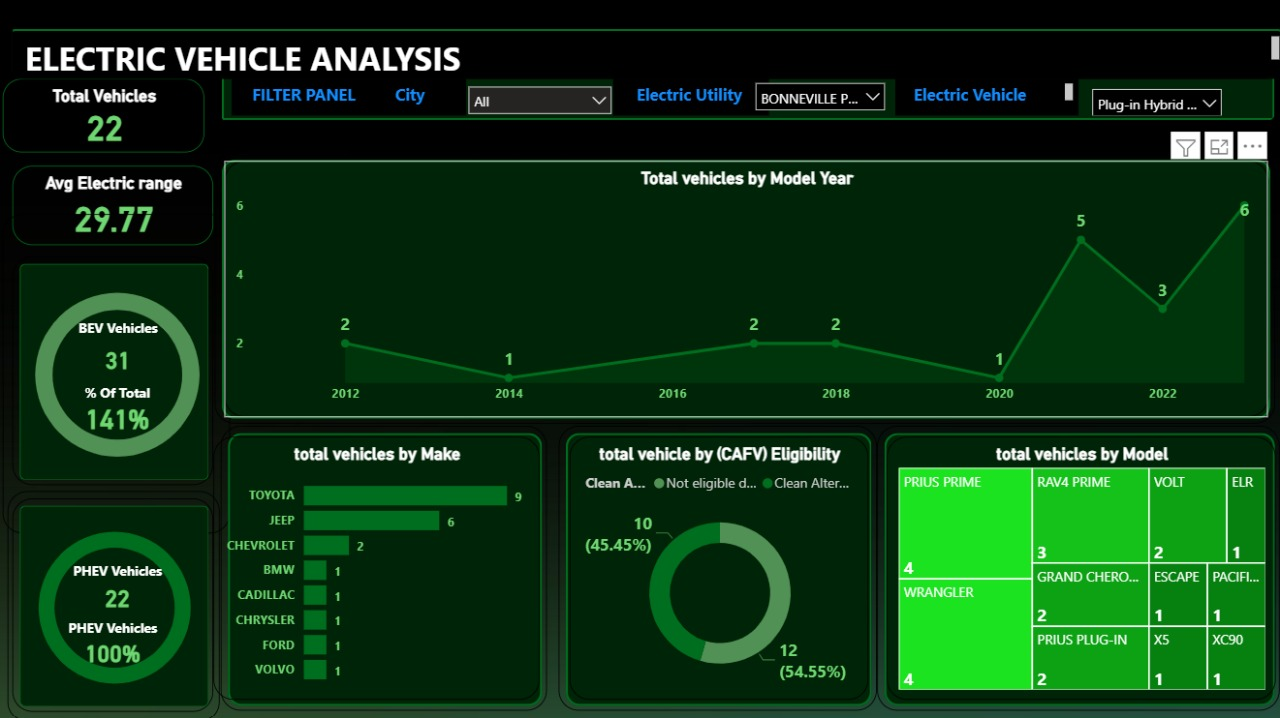

The page's visual inventory and layout, read from the dashboard file:
{"tool":"powerbi","page":{"name":"Page 1","canvas":[1280,720],"ordinal":0},"visuals":[{"type":"shape","box":[214.7,68,1060.1,57.1],"z":0},{"type":"shape","box":[13.7,255.2,200.3,227.8],"z":2},{"type":"card","title":"Total Vehicles","fields":{"Values":["Electric_Vehicle_Population_Data.total vehicles"]},"box":[4.1,78.8,201.1,73.4],"z":3},{"type":"card","title":"Avg Electric range","fields":{"Values":["Avg(Electric_Vehicle_Population_Data.Electric Range)"]},"box":[13.7,164.7,200.3,79.6],"z":4},{"type":"donutChart","fields":{"Category":["Electric_Vehicle_Population_Data.Electric Vehicle Type"],"Y":["Electric_Vehicle_Population_Data.total vehicles"]},"box":[4.1,214.1,226.4,318.4],"z":7},{"type":"shape","box":[13.7,496.7,200.3,212.7],"z":8},{"type":"card","title":"BEV Vehicles","fields":{"Values":["Electric_Vehicle_Population_Data.BEV Vehicles"]},"box":[65.9,317,104.3,65.9],"z":9},{"type":"card","title":"% Of Total","fields":{"Values":["Electric_Vehicle_Population_Data.% BEV"]},"box":[50.8,382.8,134.5,52.1],"z":10},{"type":"donutChart","fields":{"Category":["Electric_Vehicle_Population_Data.Electric Vehicle Type"],"Y":["Electric_Vehicle_Population_Data.total vehicles"]},"box":[8.2,489.9,211.3,230.5],"z":11},{"type":"card","title":"PHEV Vehicles","fields":{"Values":["Electric_Vehicle_Population_Data.PHEV Vehicles"]},"box":[30.2,559.9,175.6,56.3],"z":12},{"type":"card","title":"PHEV Vehicles","fields":{"Values":["Electric_Vehicle_Population_Data.% PHEV"]},"box":[30.2,616.1,166,52.1],"z":13},{"type":"shape","box":[5.4,21.7,1274.8,57.1],"z":14},{"type":"shape","box":[214.7,152.2,1056,270.5],"z":15},{"type":"areaChart","title":"Total vehicles by Model Year","fields":{"Category":["Electric_Vehicle_Population_Data.Model Year"],"Y":["Electric_Vehicle_Population_Data.total vehicles"]},"box":[224.3,160.4,1039.7,255.5],"z":16},{"type":"shape","box":[220.2,424,324.8,284.1],"z":17},{"type":"barChart","fields":{"Category":["Electric_Vehicle_Population_Data.Make"],"Y":["Electric_Vehicle_Population_Data.total vehicles"]},"box":[213.4,434.9,324.8,262.3],"z":18},{"type":"shape","box":[557.2,424,316.7,284.1],"z":19},{"type":"donutChart","title":"total vehicle by (CAFV) Eligibility","fields":{"Category":["Electric_Vehicle_Population_Data.Clean Alternative Fuel Vehicle (CAFV) Eligibility"],"Y":["Electric_Vehicle_Population_Data.total vehicles"]},"box":[568.1,434.9,297.6,262.3],"z":20},{"type":"shape","box":[873.9,424,400.9,284.1],"z":22},{"type":"treemap","fields":{"Group":["Electric_Vehicle_Population_Data.Model"],"Values":["Electric_Vehicle_Population_Data.total vehicles"]},"box":[883.4,434.9,387.3,262.3],"z":23},{"type":"textbox","box":[231,78.8,233.8,36.7],"z":24},{"type":"textbox","box":[13.6,31.3,1266.7,47.6],"z":25},{"type":"slicer","fields":{"Values":["Electric_Vehicle_Population_Data.City"]},"box":[456.7,76.1,163.1,63.9],"z":26},{"type":"textbox","box":[611.6,78.8,154.9,36.7],"z":27},{"type":"slicer","fields":{"Values":["Electric_Vehicle_Population_Data.Electric Utility"]},"box":[743.4,72,149.5,43.5],"z":28},{"type":"textbox","box":[892.9,78.8,182.1,36.7],"z":29},{"type":"slicer","fields":{"Values":["Electric_Vehicle_Population_Data.Electric Vehicle Type"]},"box":[1077.8,78.8,149.5,36.7],"z":30}]}

Visuals, with their boxes in screenshot pixels (x1, y1, x2, y2), scaled from the page's 1280x720 canvas onto the 1280x718 screenshot:
shape: l=215, t=68, r=1275, b=125
shape: l=14, t=254, r=214, b=482
"Total Vehicles" card: l=4, t=79, r=205, b=152
"Avg Electric range" card: l=14, t=164, r=214, b=244
donutChart - Electric_Vehicle_Population_Data.Electric Vehicle Type x Electric_Vehicle_Population_Data.total vehicles: l=4, t=214, r=230, b=531
shape: l=14, t=495, r=214, b=707
"BEV Vehicles" card: l=66, t=316, r=170, b=382
"% Of Total" card: l=51, t=382, r=185, b=434
donutChart - Electric_Vehicle_Population_Data.Electric Vehicle Type x Electric_Vehicle_Population_Data.total vehicles: l=8, t=489, r=220, b=717
"PHEV Vehicles" card: l=30, t=558, r=206, b=614
"PHEV Vehicles" card: l=30, t=614, r=196, b=666
shape: l=5, t=22, r=1279, b=79
shape: l=215, t=152, r=1271, b=422
"Total vehicles by Model Year" areaChart: l=224, t=160, r=1264, b=415
shape: l=220, t=423, r=545, b=706
barChart - Electric_Vehicle_Population_Data.Make x Electric_Vehicle_Population_Data.total vehicles: l=213, t=434, r=538, b=695
shape: l=557, t=423, r=874, b=706
"total vehicle by (CAFV) Eligibility" donutChart: l=568, t=434, r=866, b=695
shape: l=874, t=423, r=1275, b=706
treemap - Electric_Vehicle_Population_Data.Model x Electric_Vehicle_Population_Data.total vehicles: l=883, t=434, r=1271, b=695
textbox: l=231, t=79, r=465, b=115
textbox: l=14, t=31, r=1279, b=79
slicer - Electric_Vehicle_Population_Data.City: l=457, t=76, r=620, b=140
textbox: l=612, t=79, r=766, b=115
slicer - Electric_Vehicle_Population_Data.Electric Utility: l=743, t=72, r=893, b=115
textbox: l=893, t=79, r=1075, b=115
slicer - Electric_Vehicle_Population_Data.Electric Vehicle Type: l=1078, t=79, r=1227, b=115
